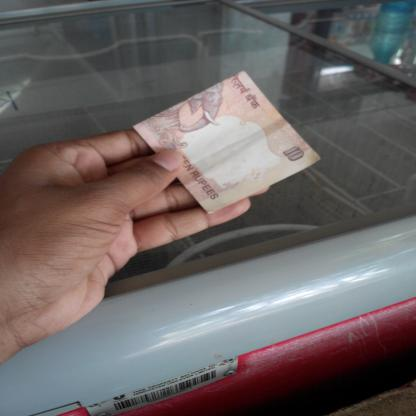Old10Back: (130, 70, 320, 215)
